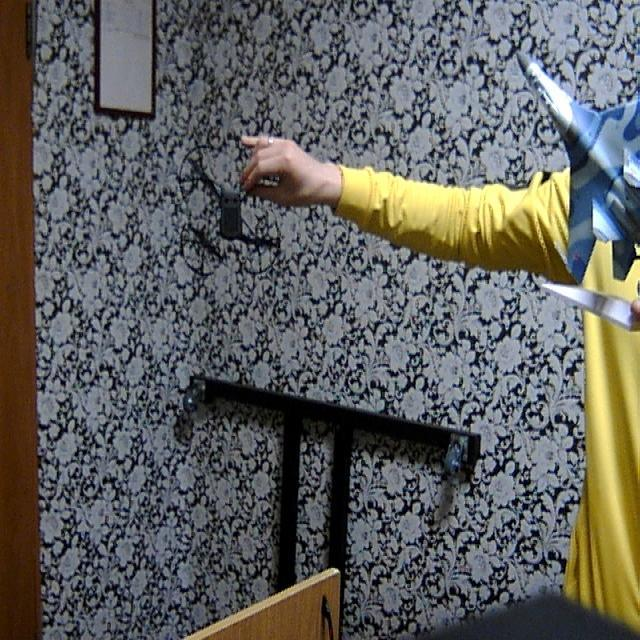drone: (176, 128, 286, 288)
